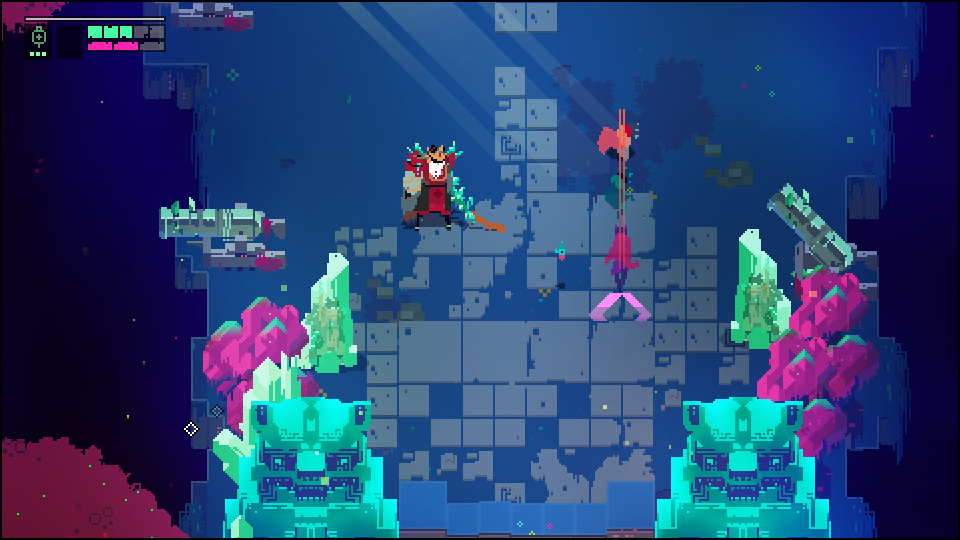hanged_man: (403, 143, 477, 233)
player: (601, 122, 636, 163)
